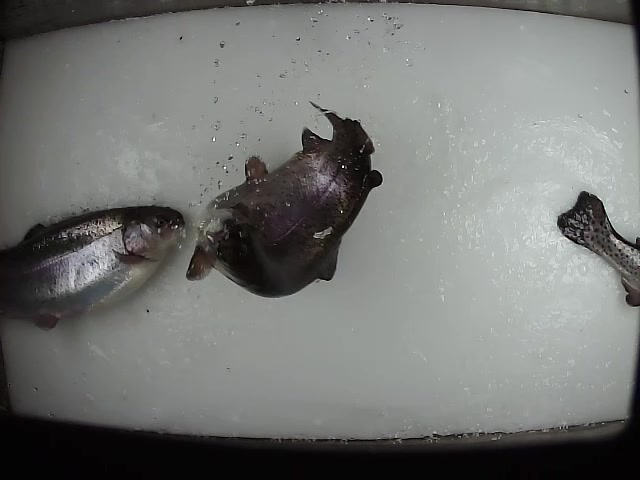fish: (185, 99, 388, 299), (1, 204, 187, 333), (555, 189, 640, 309)
